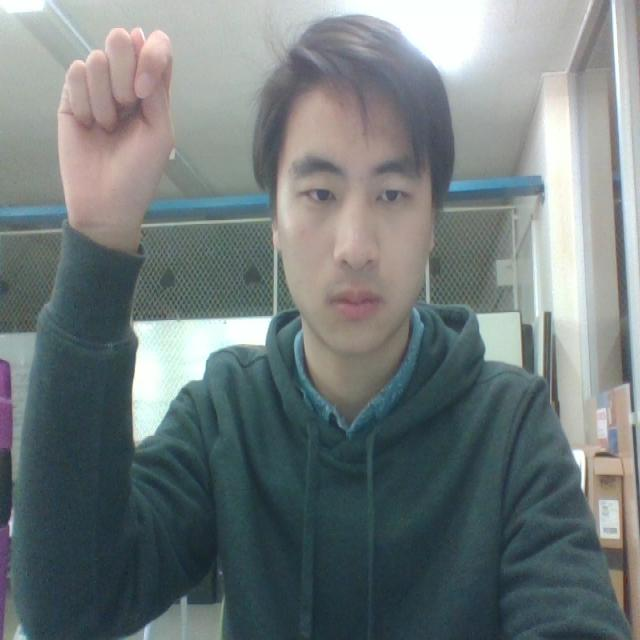T: (30, 4, 197, 264)
